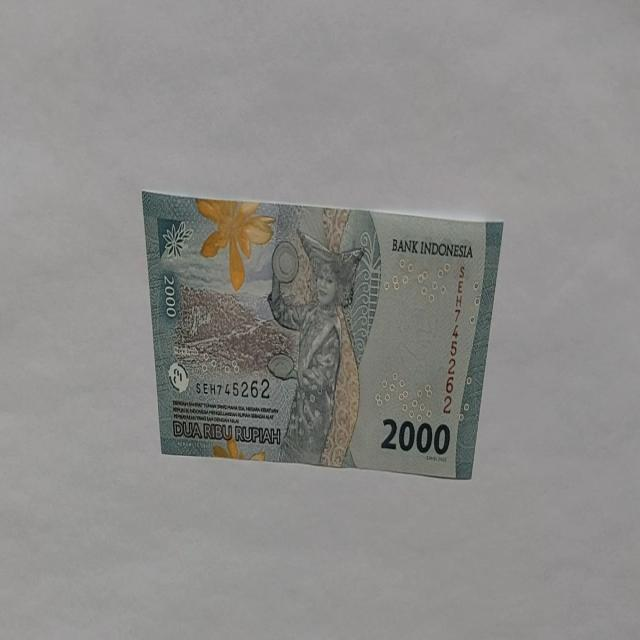dua ribu rupiah: (142, 191, 504, 480), (266, 226, 364, 466), (194, 196, 276, 292)
